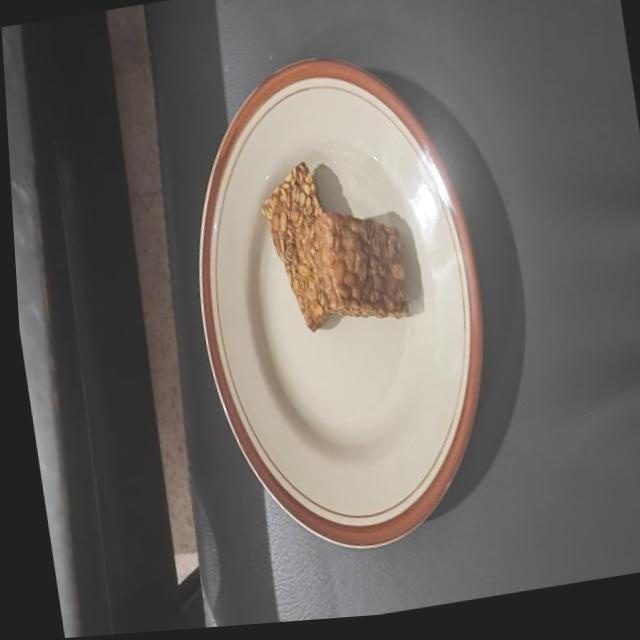tempe_goreng: (260, 160, 332, 333), (320, 212, 410, 318)
